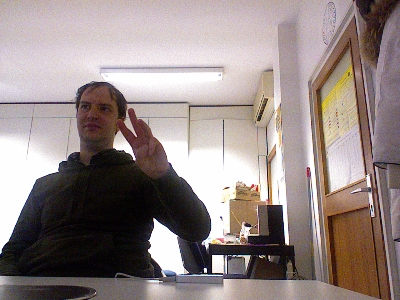三分: (114, 108, 171, 180)
